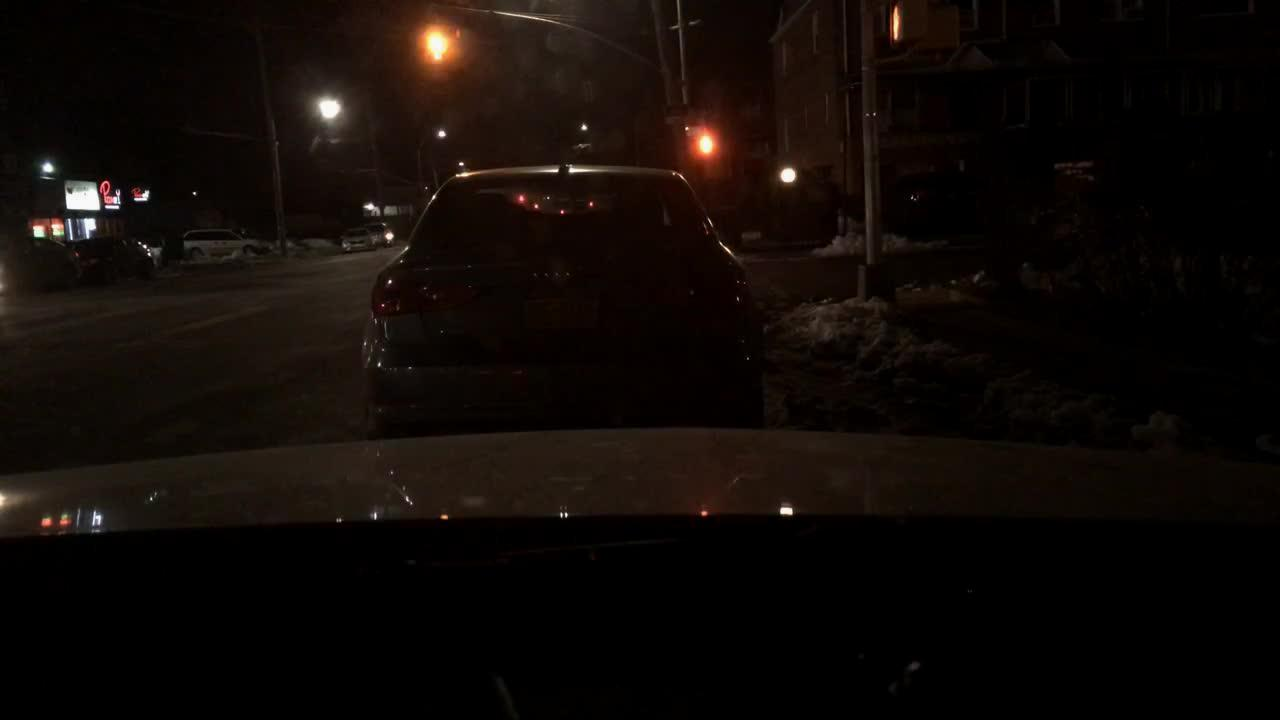Audi: (524, 267, 579, 284)
